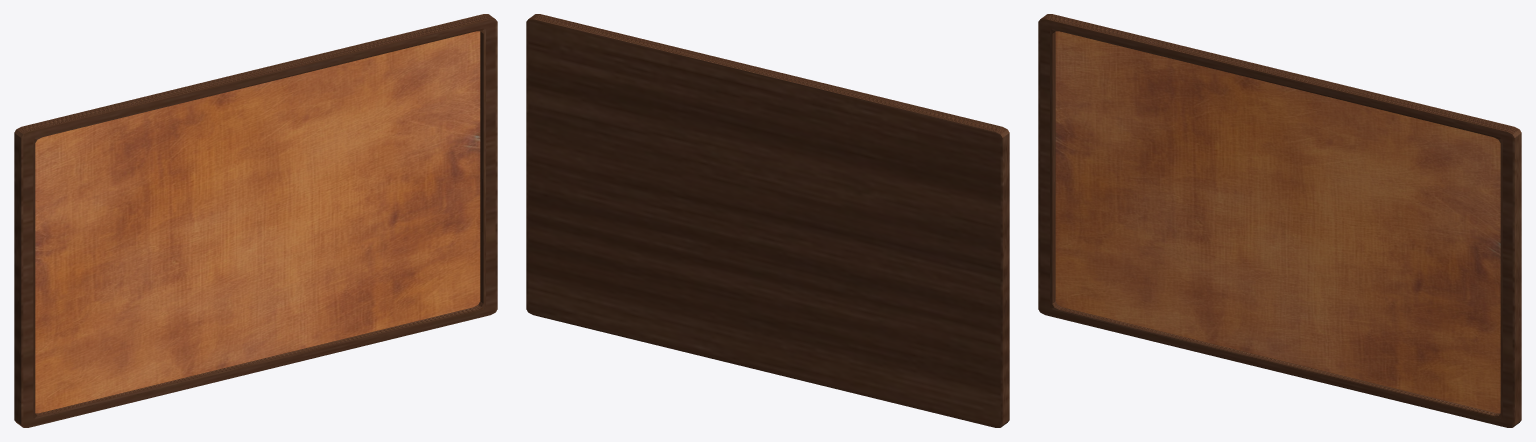
Rendered from walltable.fbx.
3 renders of one model, left to right at view 1: azimuth 30°, elevation 25°; view 2: azimuth 150°, elevation 25°; view 3: azimuth 330°, elevation 25°, orthographic.
Visible parts, largest first — view 1: Cube; view 2: Cube; view 3: Cube.
Part boxes in pixels (x1,y1,x2,y2): Cube: [14, 14, 497, 427]; Cube: [526, 14, 1009, 427]; Cube: [1038, 14, 1521, 427].
Bounding box in the file's own units: 2.04 × 1.21 × 0.0544.
